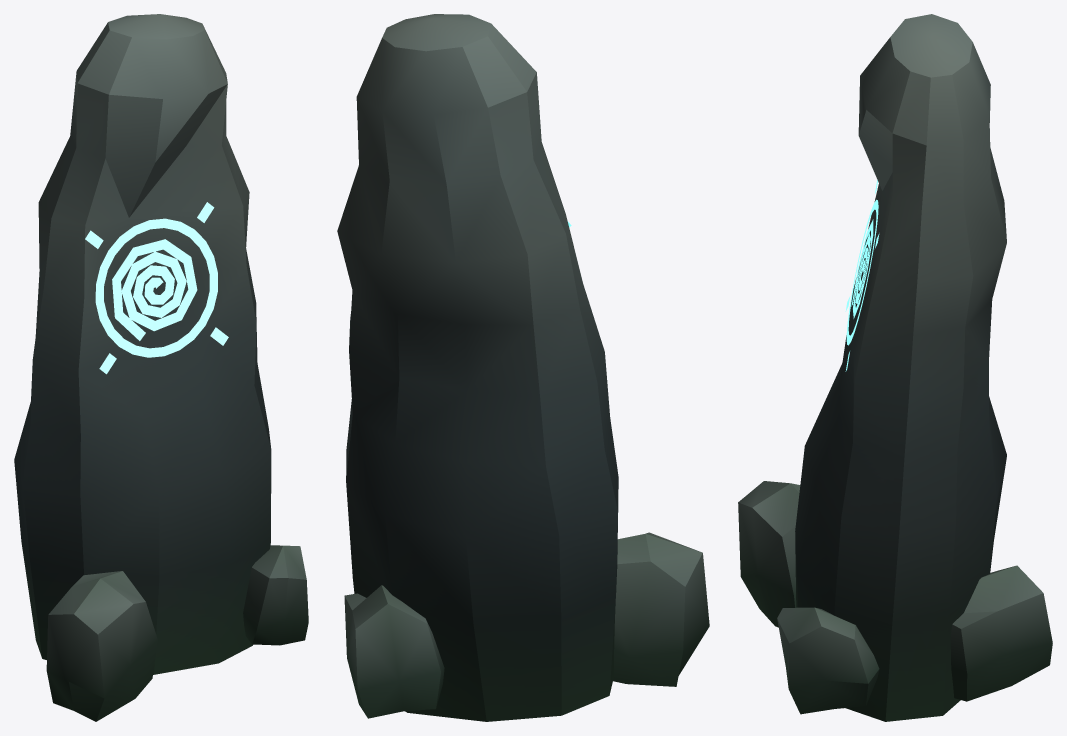
The model's file is rune_menhir.glb.
3 renders of one model, left to right at view 1: azimuth 30°, elevation 25°; view 2: azimuth 150°, elevation 25°; view 3: azimuth 270°, elevation 25°, orthographic. The views are drawn at different scales.
Parts seen in each view (by area): view 1: rune_menhir; view 2: rune_menhir; view 3: rune_menhir.
Part boxes in pixels (x1,y1,x2,y2): rune_menhir: [14, 14, 308, 721]; rune_menhir: [337, 14, 709, 721]; rune_menhir: [738, 14, 1052, 721].
Size of the model in its own units: 1.16 by 2.55 by 1.12.
